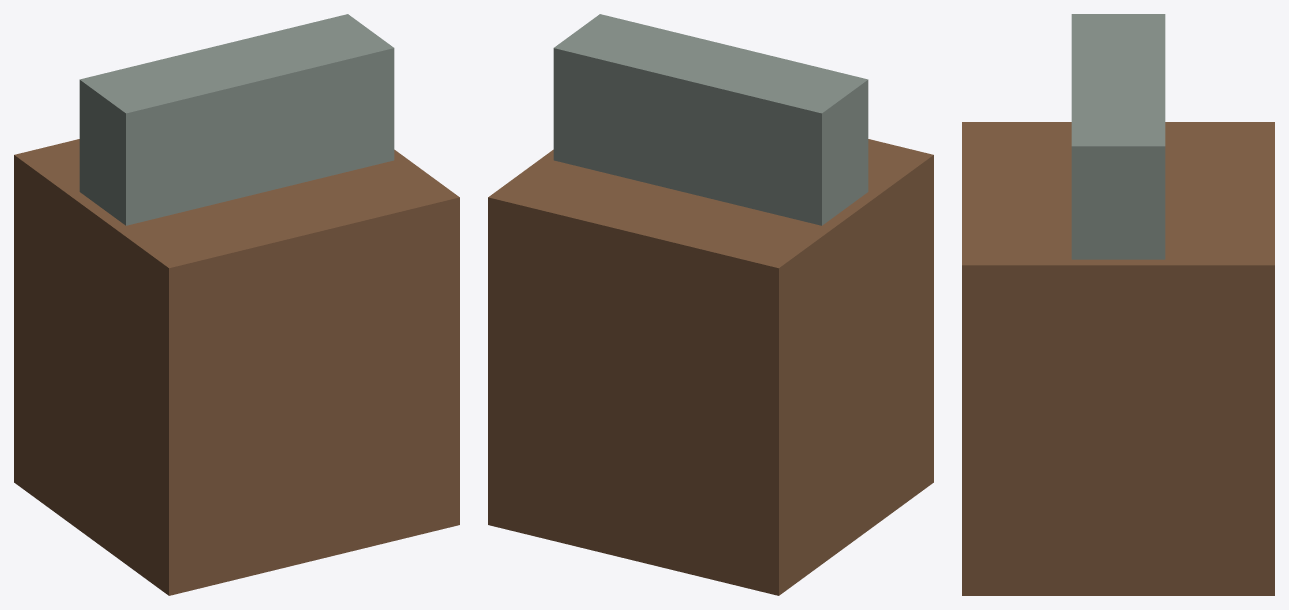
The model's file is prop_grave.glb.
3 views of the same model, side by side, from view 1: azimuth 30°, elevation 25°; view 2: azimuth 150°, elevation 25°; view 3: azimuth 270°, elevation 25° (orthographic).
Parts seen in each view (by area): view 1: prop_grave; view 2: prop_grave; view 3: prop_grave.
Boxes of the visible parts, box(x1,y1,x2,y2) form: prop_grave: box(14, 14, 459, 595); prop_grave: box(488, 14, 933, 595); prop_grave: box(962, 14, 1274, 595).
Bounding box in the file's own units: 0.65 × 0.94 × 0.6.
1 material, 1 textured.
